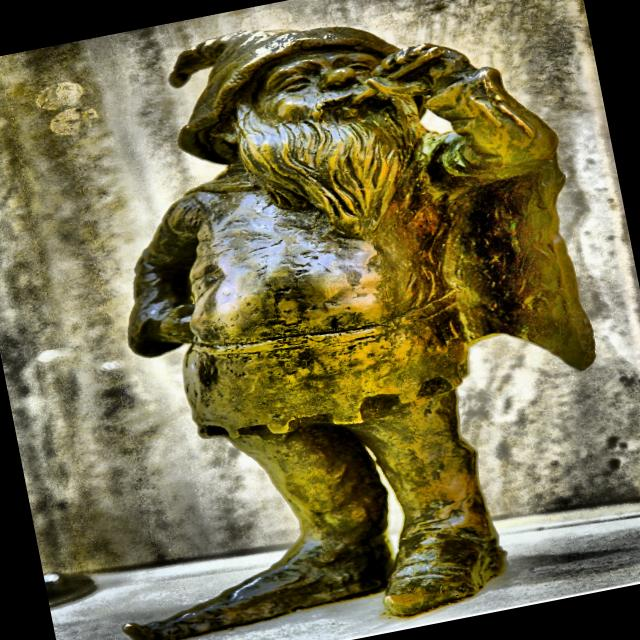Trabibrzuch: (129, 28, 593, 640)
